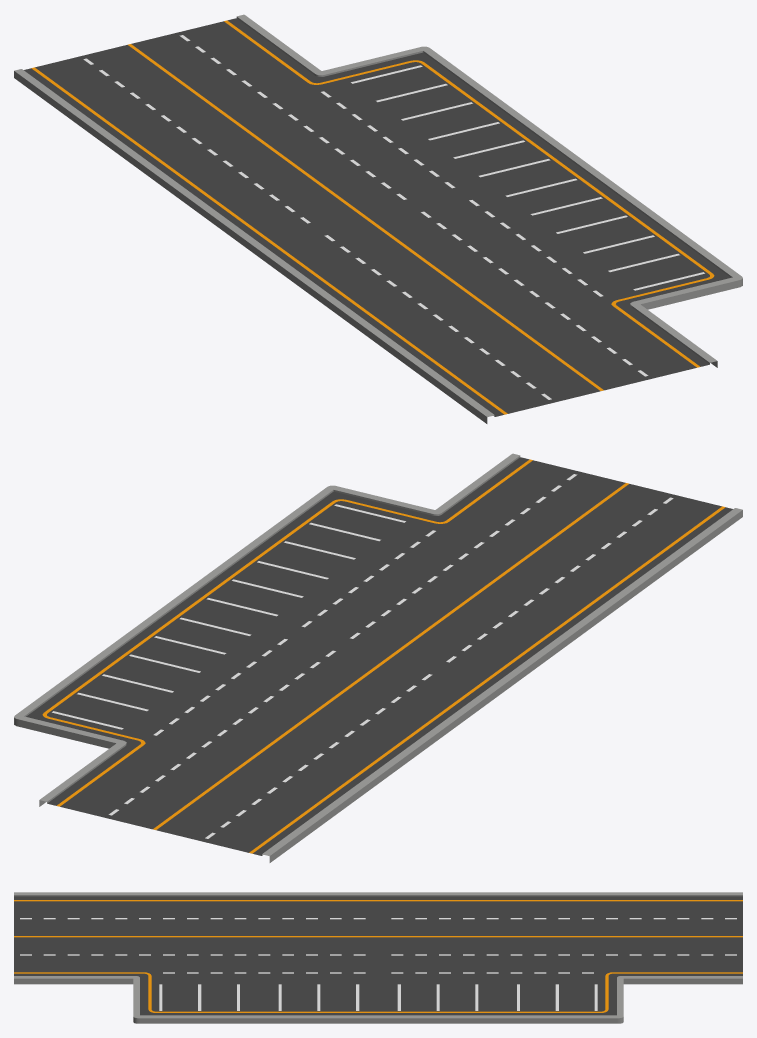
File: ParkingRoad_A_6.fbx
3 views of the same model, one above another, from view 1: azimuth 30°, elevation 25°; view 2: azimuth 150°, elevation 25°; view 3: azimuth 270°, elevation 25° (orthographic). The views are drawn at different scales.
Visible parts, largest first — view 1: ParkingRoad_A_6; view 2: ParkingRoad_A_6; view 3: ParkingRoad_A_6.
Part boxes in pixels (x1,y1,x2,y2): ParkingRoad_A_6: (14, 14, 742, 423); ParkingRoad_A_6: (14, 453, 742, 862); ParkingRoad_A_6: (14, 892, 742, 1023).
Size of the model in its own units: 2000 by 41.49 by 4893.
